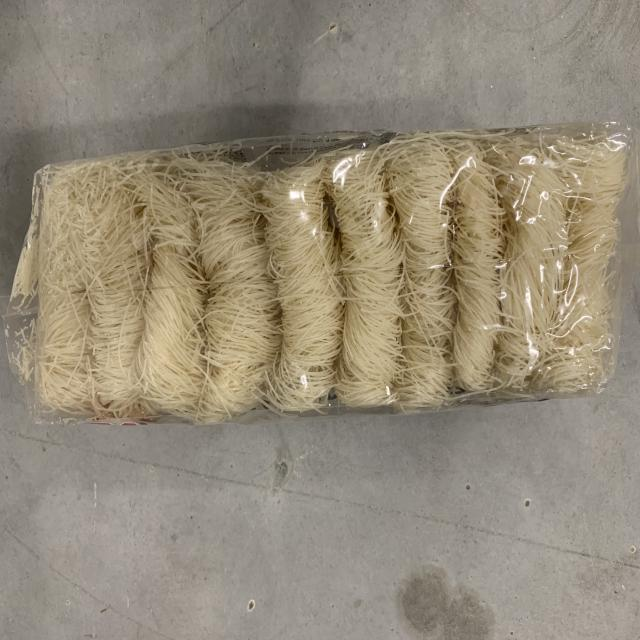object_name: (33, 161, 614, 395)
